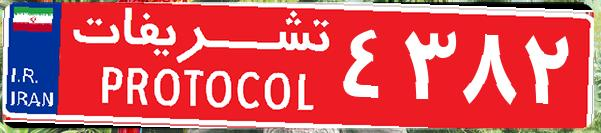2: (520, 20, 580, 115)
3: (400, 20, 460, 115)
4: (340, 20, 400, 115)
8: (460, 20, 520, 115)
تشریفات: (60, 8, 340, 125)
